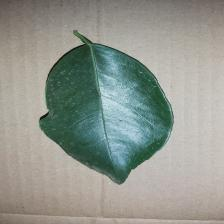healthy: (32, 29, 170, 193)
